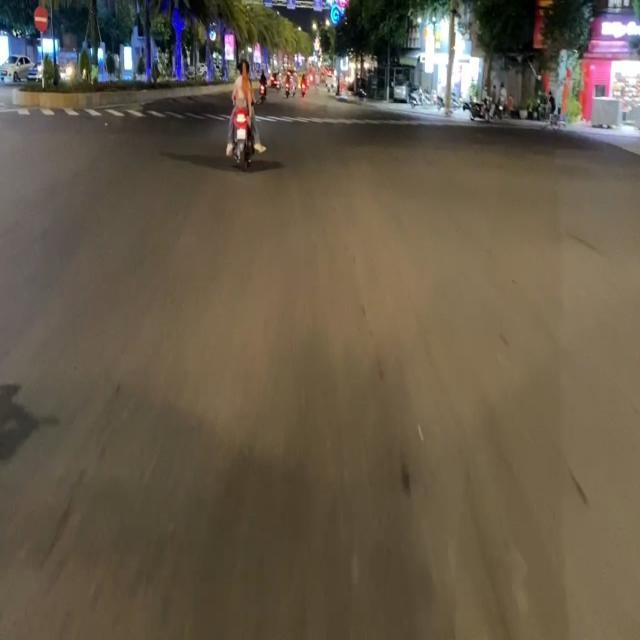walk-crossing: (0, 102, 233, 122)
